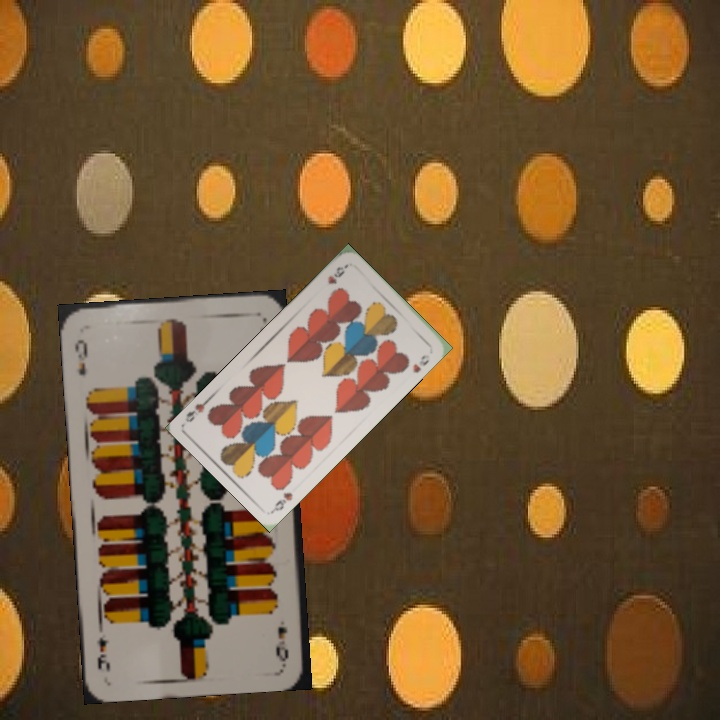E9: (70, 335, 90, 378), (273, 622, 291, 664)
H9: (269, 488, 295, 514), (324, 262, 349, 287)
